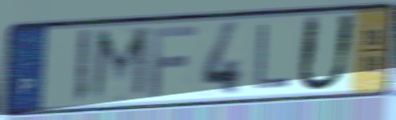4: (200, 19, 246, 98)
F: (148, 24, 200, 100)
I: (71, 27, 93, 106)
L: (252, 21, 293, 92)
M: (88, 24, 152, 105)
U: (294, 12, 360, 94)
